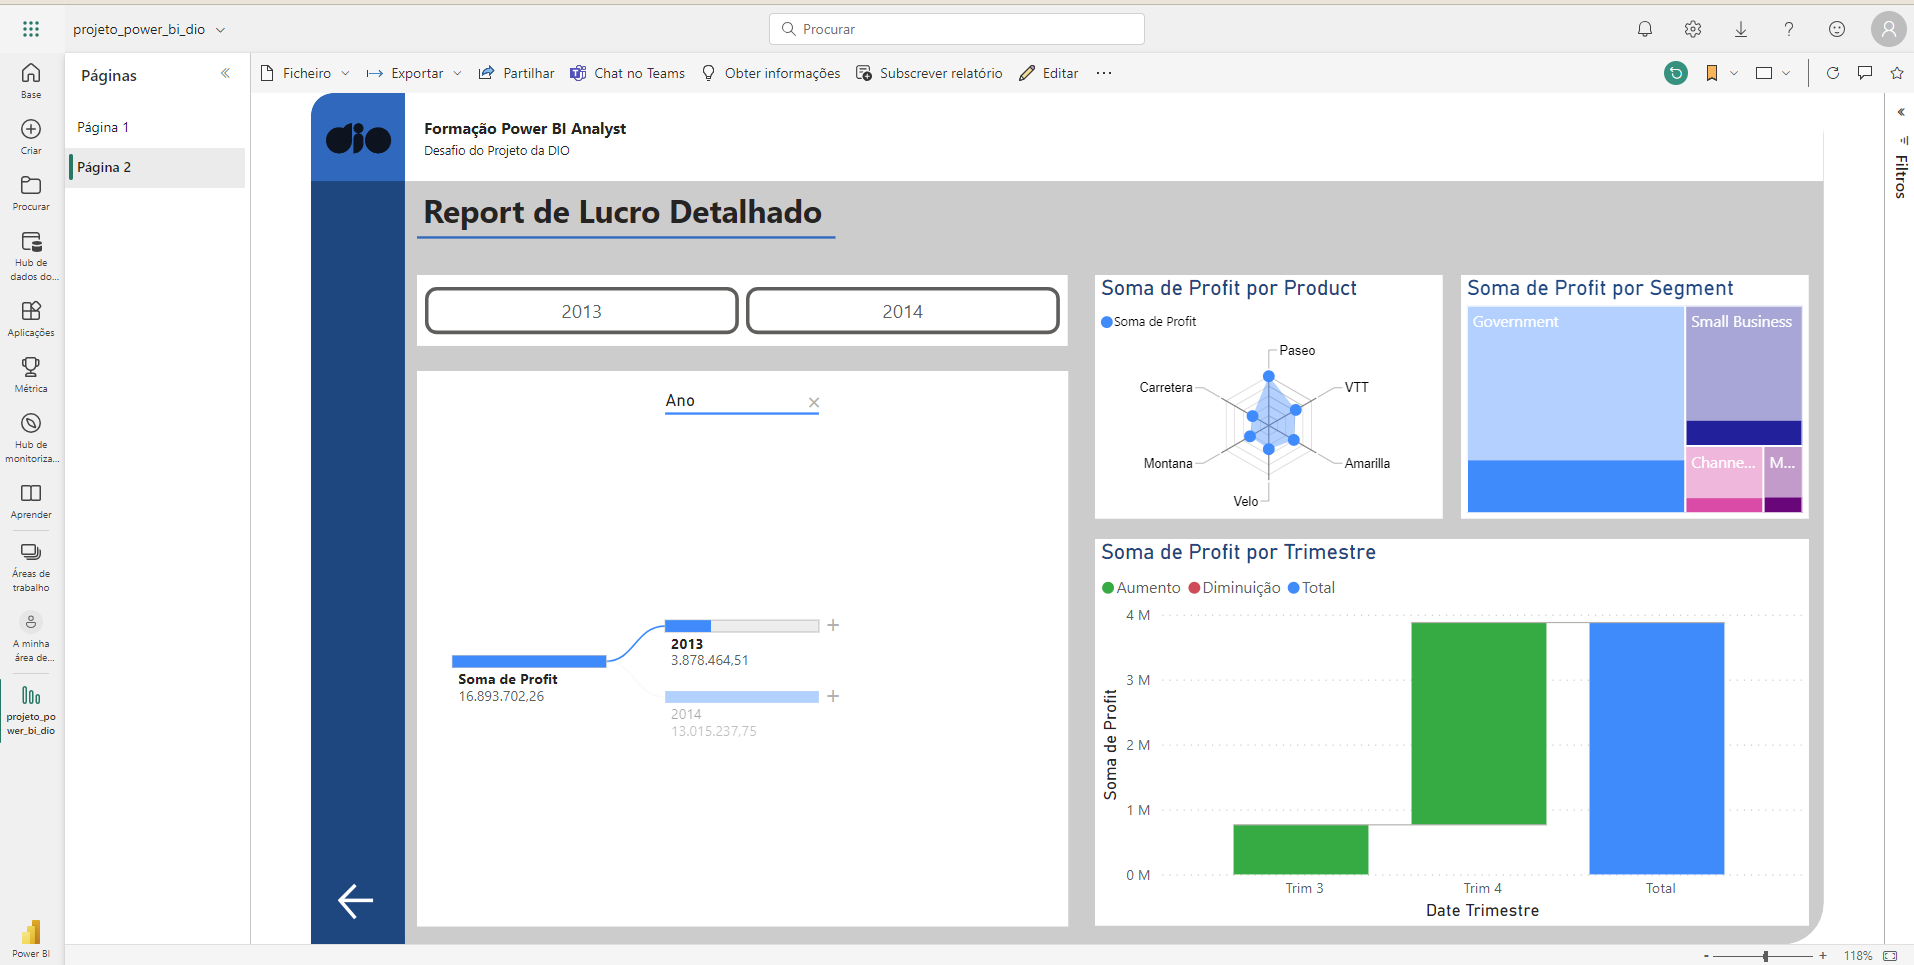

This screenshot's page, from the dashboard's own definition file:
{"tool":"powerbi","page":{"name":"Página 2","canvas":[1280,720],"ordinal":1},"visuals":[{"type":"group","id":"g1","title":"Layout Relatório","box":[0,0,1280,720.5],"z":0},{"type":"shape","box":[0,0,1280,720.5],"z":0,"group":"g1"},{"type":"shape","box":[90,112.5,354.5,19.4],"z":0,"group":"g2"},{"type":"shape","title":"Forma - Seleciona Ano","box":[90,153.9,550.5,60.4],"z":0,"group":"g3"},{"type":"shape","title":"Forma - Profit x Produto","box":[663.4,153.9,294.1,206.3],"z":0,"group":"g5"},{"type":"shape","title":"Forma - Profit x Segment","box":[973.4,153.9,294.1,206.3],"z":0,"group":"g6"},{"type":"shape","title":"Forma - Tre","box":[90,234.8,550.5,469.6],"z":0,"group":"g4"},{"type":"shape","box":[0,0,79.5,720.5],"z":1000,"group":"g1"},{"type":"group","id":"g2","title":"Título Relatório","box":[90,76.4,405.8,55.4],"z":1000},{"type":"textbox","box":[90.1,76.4,405.8,46.2],"z":1000,"group":"g2"},{"type":"RadarChart1446119667547","fields":{"Y":["Sum(financials.Profit)"],"Category":["financials.Product"]},"box":[663.4,153.9,294.1,206.3],"z":1000,"group":"g5"},{"type":"treemap","fields":{"Values":["Sum(financials.Profit)"],"Group":["financials.Segment"]},"box":[973.4,153.9,294.1,206.3],"z":1000,"group":"g6"},{"type":"actionButton","title":"2013","box":[96.8,164.2,265.6,39.9],"z":1000,"group":"g3"},{"type":"decompositionTreeVisual","fields":{"ExplainBy":["financials.Date.Variation.Hierarquia de datas.Ano","financials.Country"],"Analyze":["Sum(financials.Profit)"]},"box":[90,234.8,550.5,469.6],"z":1000,"group":"g4"},{"type":"shape","box":[0,0,79.5,74.6],"z":2000,"group":"g1"},{"type":"group","id":"g3","title":"Seleciona Ano","box":[90,153.9,550.5,60.4],"z":2000},{"type":"actionButton","title":"2014","box":[368.1,164.2,265.6,39.9],"z":2000,"group":"g3"},{"type":"shape","box":[79.5,0,1200.5,74.6],"z":3000,"group":"g1"},{"type":"group","id":"g4","title":"Tre Profit Ano Country","box":[90,234.8,550.5,469.6],"z":3000},{"type":"textbox","box":[90.3,15.7,300.4,44.2],"z":4000,"group":"g1"},{"type":"group","id":"g5","title":"Profit x Produto","box":[663.4,153.9,294.1,206.3],"z":4000},{"type":"group","id":"g6","title":"Profit x Segmento","box":[973.4,153.9,294.1,206.3],"z":4500},{"type":"image","title":"Logo_DIO","box":[6.9,5.9,66.7,64.8],"z":5000,"group":"g1"},{"type":"shape","title":"Forma - Profit x Trimestre","box":[663.4,377.3,604.1,327.1],"z":5000,"group":"g7"},{"type":"waterfallChart","fields":{"Category":["financials.Date.Variation.Hierarquia de datas.Trimestre"],"Y":["Sum(financials.Profit)"]},"box":[663.4,377.3,604.1,327.1],"z":6000,"group":"g7"},{"type":"actionButton","title":"Botão Voltar Page 1","box":[18.2,664.5,44.5,39.9],"z":6000,"group":"g1"},{"type":"group","id":"g7","title":"Profit x Trimestre","box":[663.4,377.3,604.1,327.1],"z":6001}]}

Visuals, with their boxes on the page's 1280x720 design canvas (x1, y1, x2, y2). These are canvas units, not pixel positions in the 1914x965 screenshot, which may show the page scaled, cropped or inside an application window:
"Layout Relatório" group: region(0, 0, 1280, 720)
shape: region(0, 0, 1280, 720)
shape: region(90, 112, 444, 132)
"Forma - Seleciona Ano" shape: region(90, 154, 640, 214)
"Forma - Profit x Produto" shape: region(663, 154, 958, 360)
"Forma - Profit x Segment" shape: region(973, 154, 1268, 360)
"Forma - Tre" shape: region(90, 235, 640, 704)
shape: region(0, 0, 80, 720)
"Título Relatório" group: region(90, 76, 496, 132)
textbox: region(90, 76, 496, 123)
RadarChart1446119667547 - Sum(financials.Profit) x financials.Product: region(663, 154, 958, 360)
treemap - Sum(financials.Profit) x financials.Segment: region(973, 154, 1268, 360)
"2013" actionButton: region(97, 164, 362, 204)
decompositionTreeVisual - financials.Date.Variation.Hierarquia de datas.Ano x financials.Country: region(90, 235, 640, 704)
shape: region(0, 0, 80, 75)
"Seleciona Ano" group: region(90, 154, 640, 214)
"2014" actionButton: region(368, 164, 634, 204)
shape: region(80, 0, 1280, 75)
"Tre Profit Ano Country" group: region(90, 235, 640, 704)
textbox: region(90, 16, 391, 60)
"Profit x Produto" group: region(663, 154, 958, 360)
"Profit x Segmento" group: region(973, 154, 1268, 360)
"Logo_DIO" image: region(7, 6, 74, 71)
"Forma - Profit x Trimestre" shape: region(663, 377, 1268, 704)
waterfallChart - financials.Date.Variation.Hierarquia de datas.Trimestre x Sum(financials.Profit): region(663, 377, 1268, 704)
"Botão Voltar Page 1" actionButton: region(18, 664, 63, 704)
"Profit x Trimestre" group: region(663, 377, 1268, 704)
